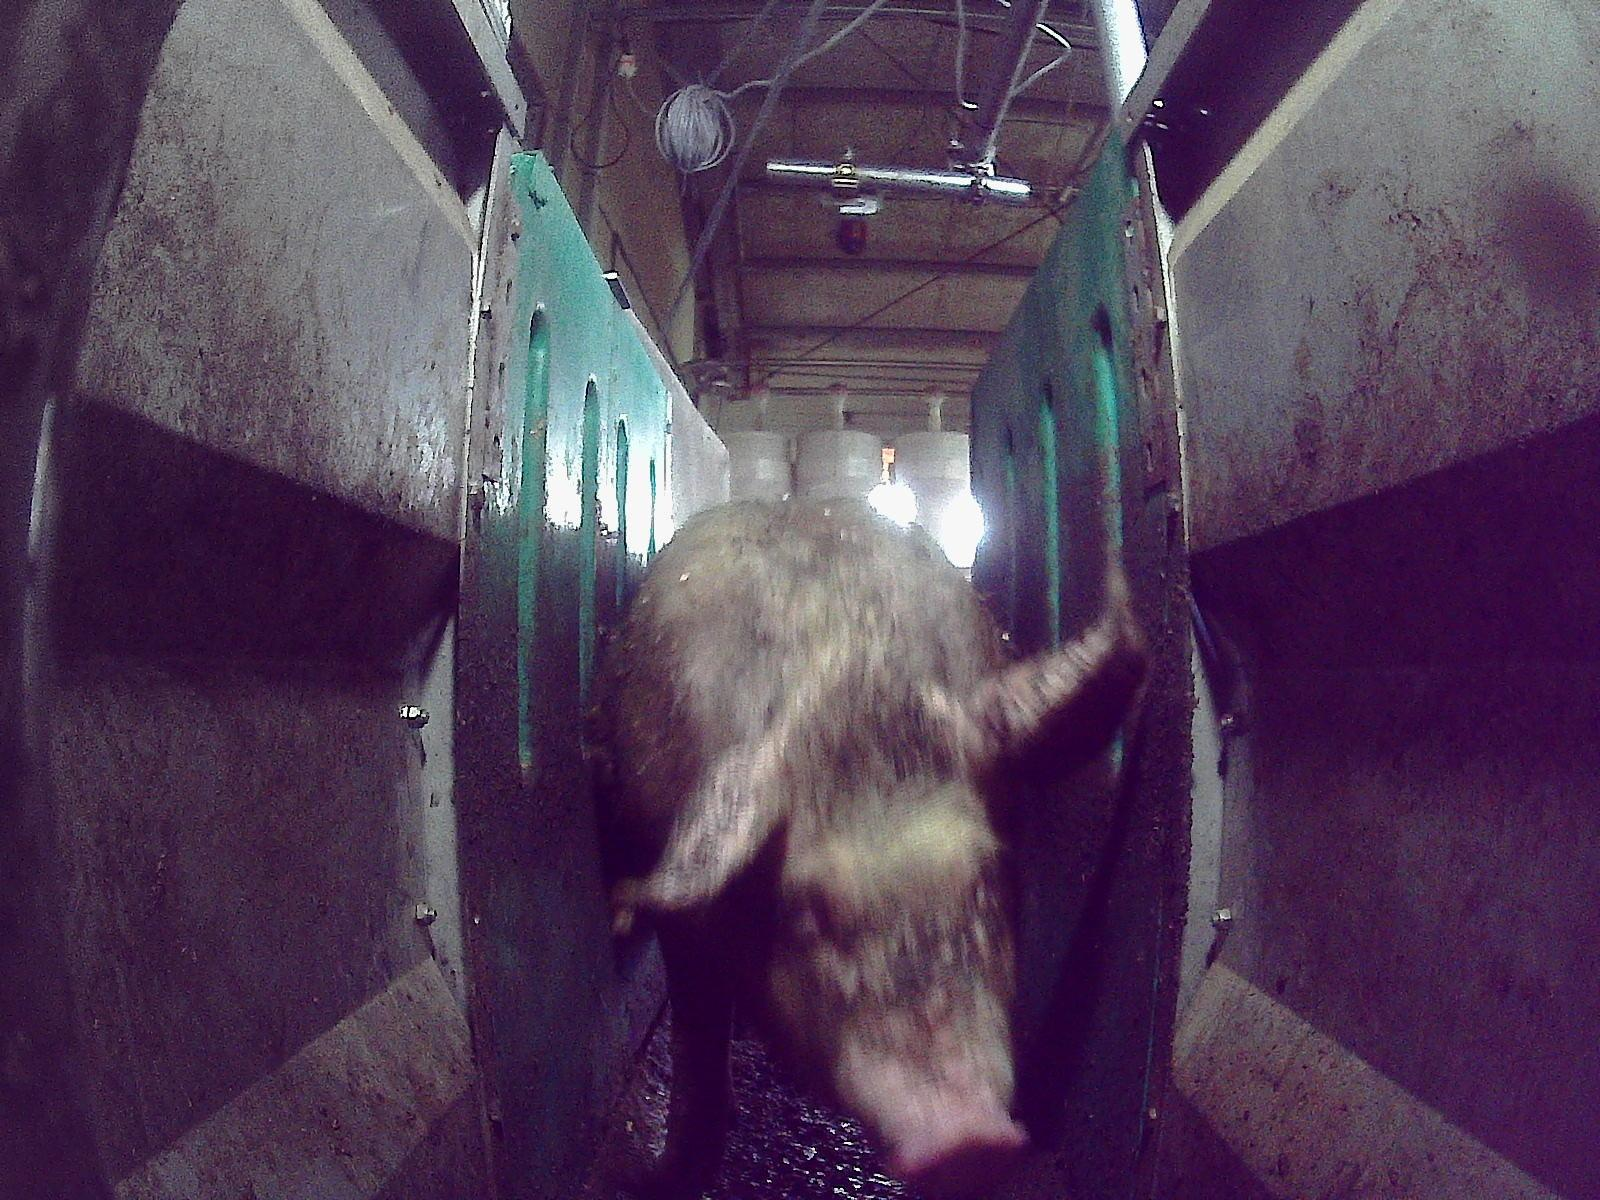Face: (678, 699, 1031, 1195)
